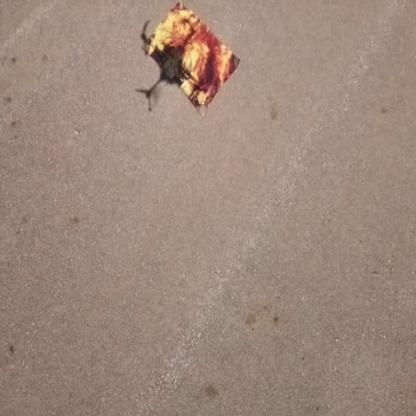fire-poster: (140, 0, 242, 119)
